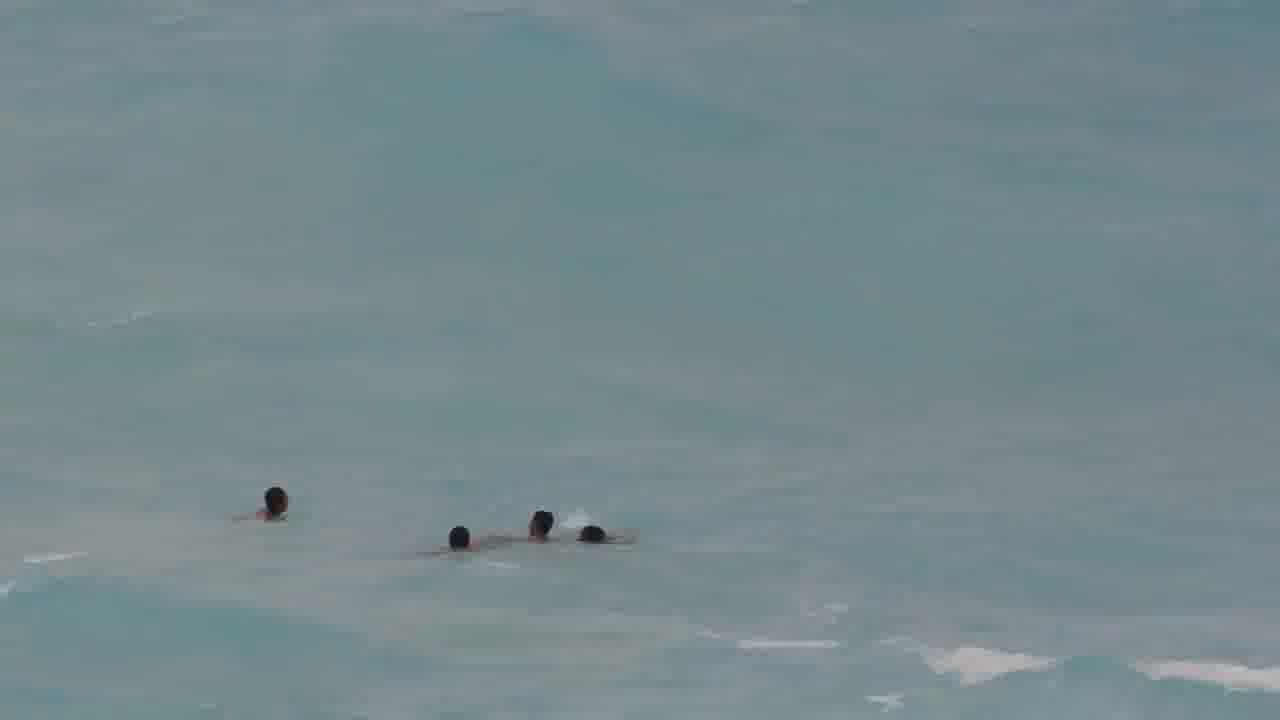human: (216, 475, 297, 526), (494, 502, 566, 543), (419, 515, 496, 551), (567, 515, 640, 551)
